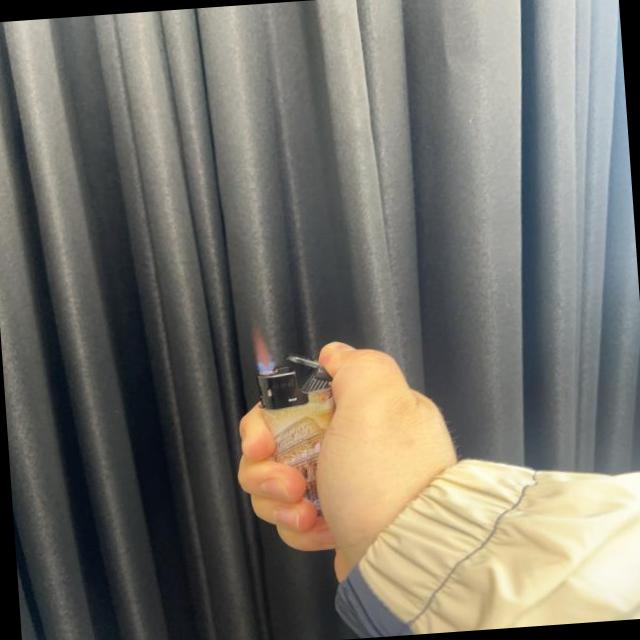Fire: (250, 325, 277, 373)
